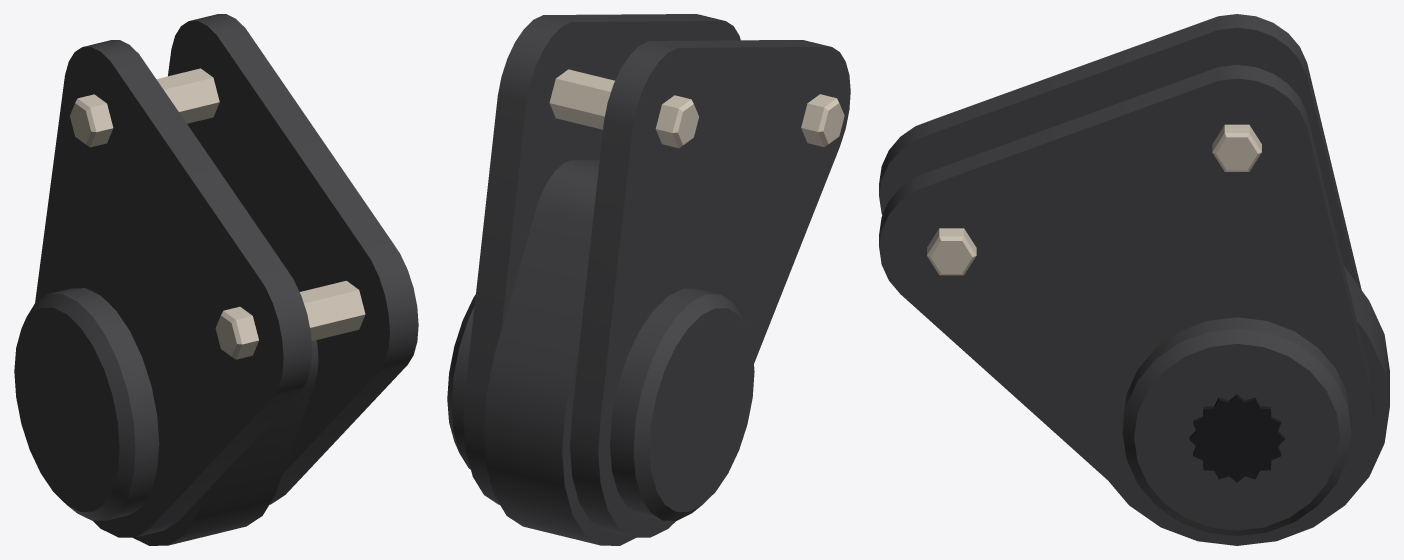
The model's file is SM_Susp_RR_Rocker.fbx.
3 renders of one model, left to right at view 1: azimuth 30°, elevation 25°; view 2: azimuth 150°, elevation 25°; view 3: azimuth 270°, elevation 25°, orthographic. The views are drawn at different scales.
Parts seen in each view (by area): view 1: Export_Susp_RR_Rocker; view 2: Export_Susp_RR_Rocker; view 3: Export_Susp_RR_Rocker.
Boxes of the visible parts, box(x1,y1,x2,y2) form: Export_Susp_RR_Rocker: box(14, 14, 418, 545); Export_Susp_RR_Rocker: box(447, 14, 850, 545); Export_Susp_RR_Rocker: box(879, 14, 1389, 545).
Bounding box in the file's own units: 0.1338 × 0.0615 × 0.139.
